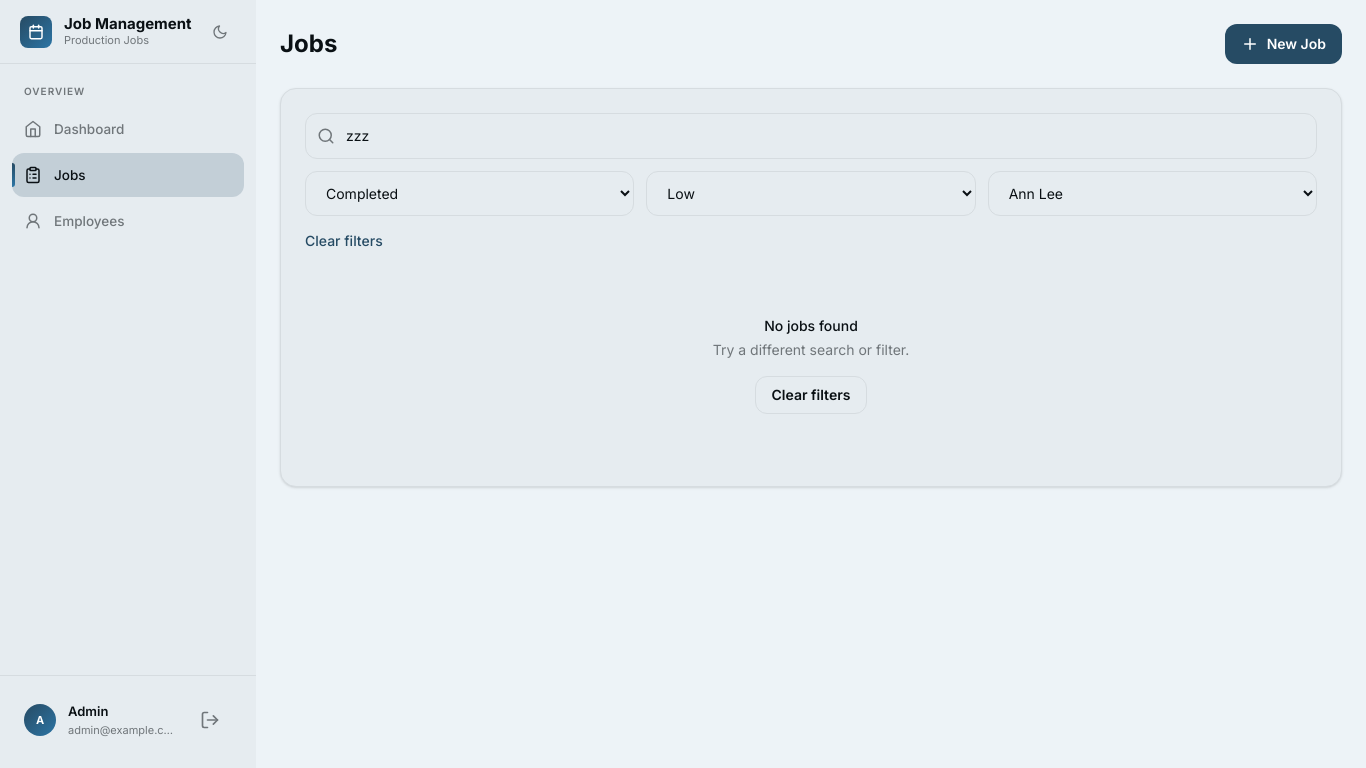
jobs list › shows a filtered empty state and clears every filter
Expected: the text "Try a different search or filter." is shown, [713,341,909,358]
Click the 1st button "Clear filters": (344, 241) [305,231,383,251]
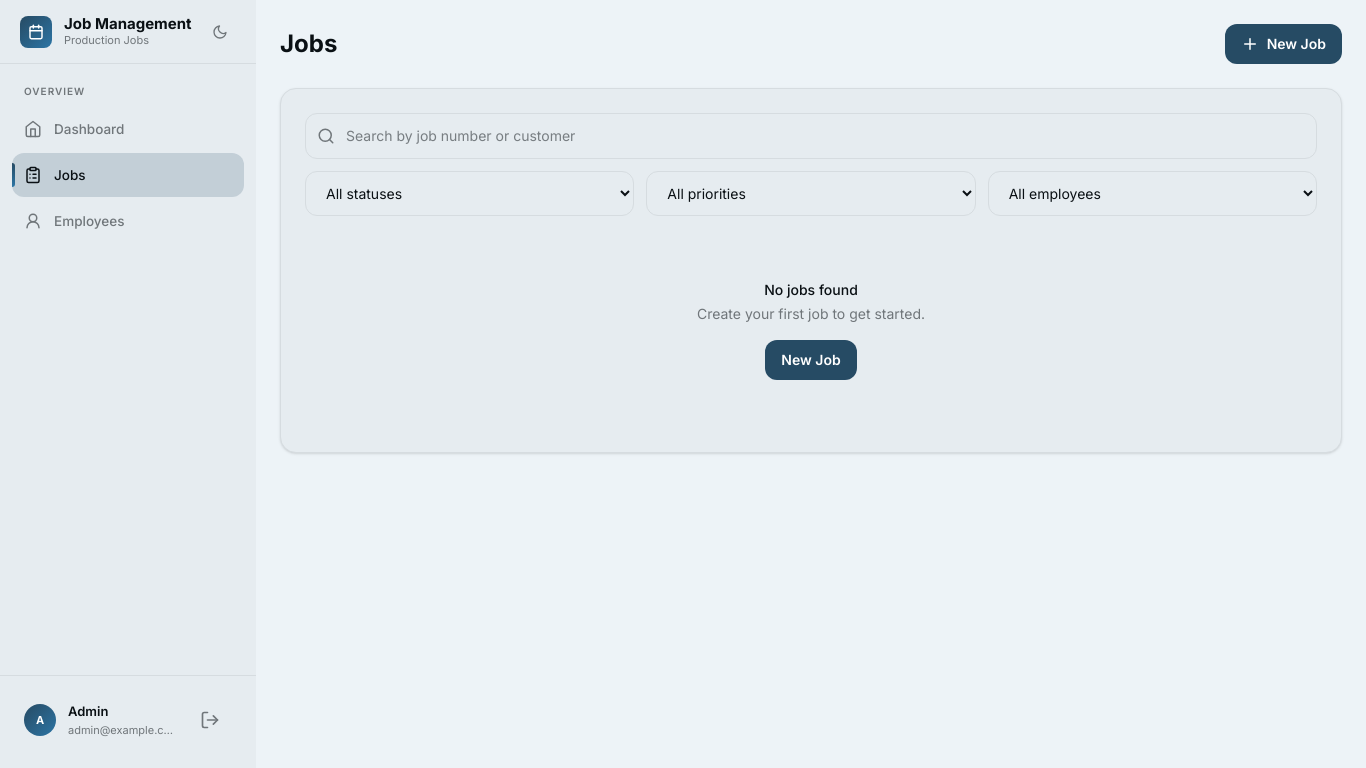
Result: the search field named "Search jobs" is empty at [305,113,1317,159]
